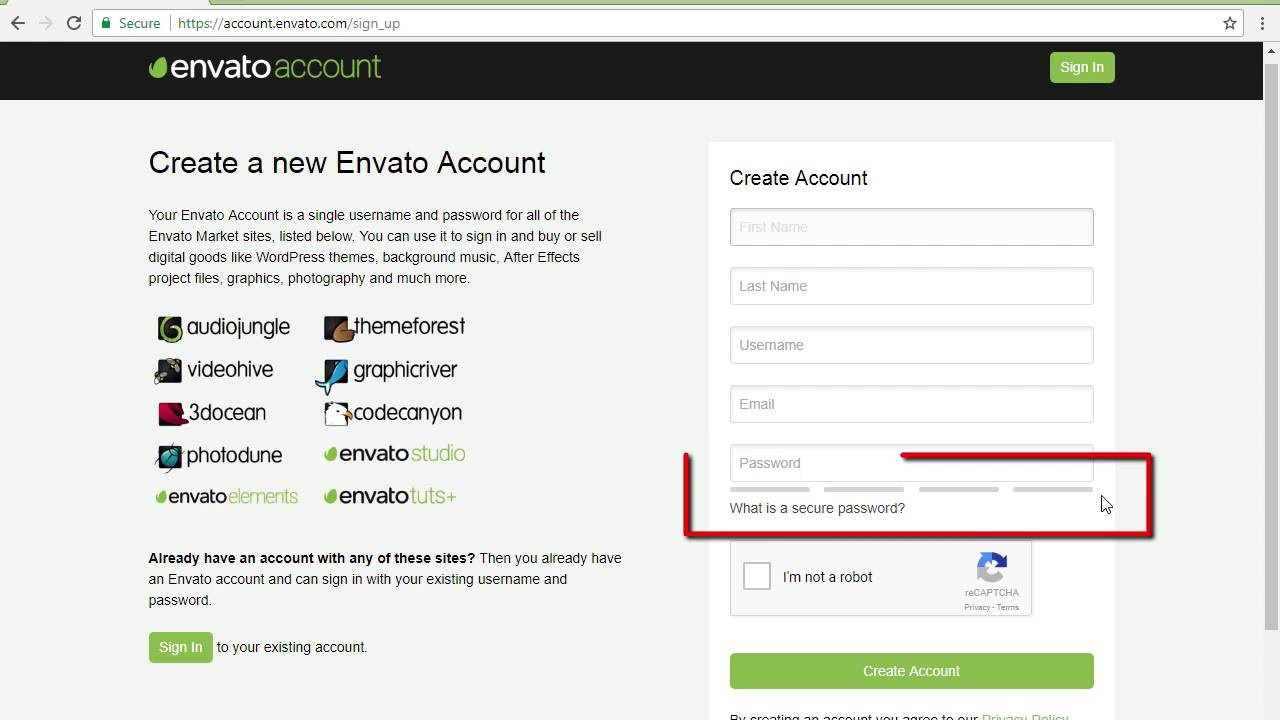button: (721, 643, 1103, 698)
checkbox: (740, 559, 881, 603)
textbox: (721, 199, 1105, 259), (724, 257, 1101, 315), (722, 320, 1106, 374), (725, 380, 1103, 429)
